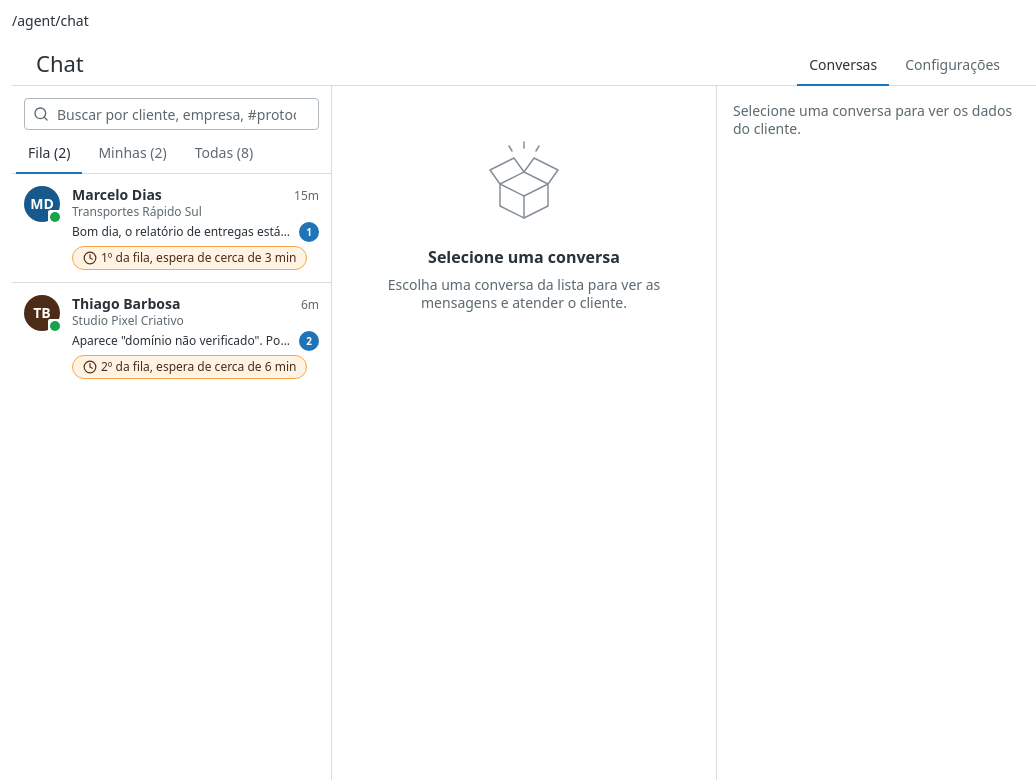
Test: lista de conversas › busca no servidor: sem resultado mostra o vazio; limpar volta
Expected: the list named "Conversas: Fila" is shown, 12,174 -> 331,391
Type "zzzz" into the search field named "Buscar conversas" at (184,114), box 49,99 -> 318,129
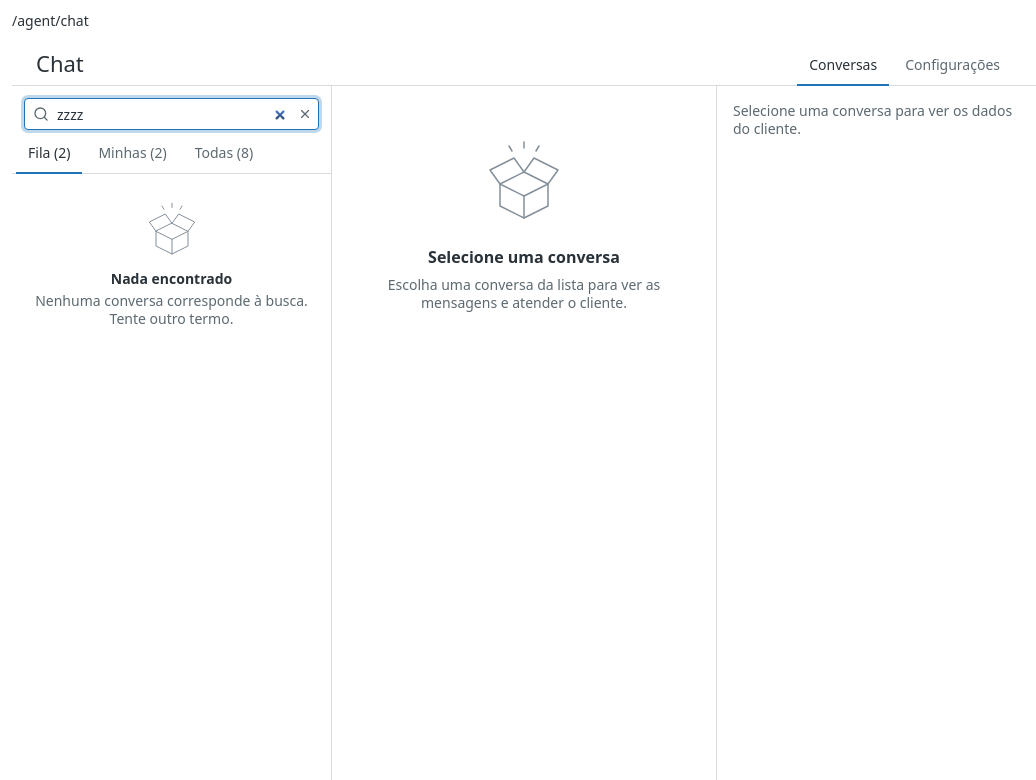
Expected: the heading "Nada encontrado" is shown, 111,270 -> 232,288
Click the button named "Limpar busca" at (305,114), box 296,105 -> 314,123
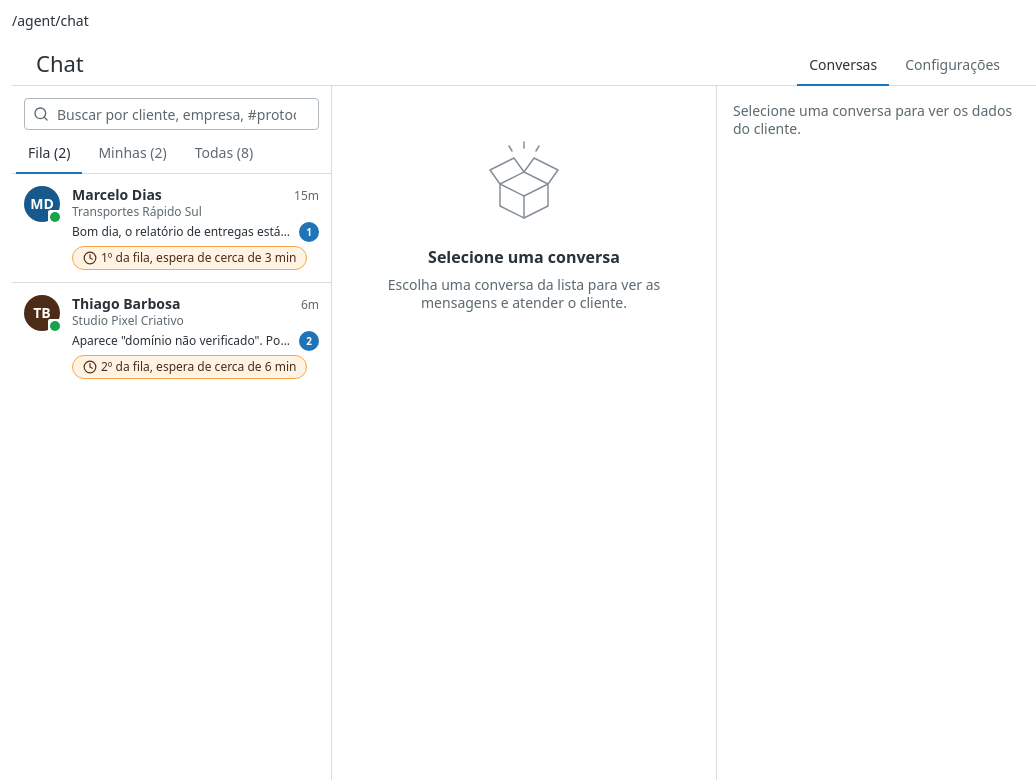
Expected: the list named "Conversas: Fila" is shown, 12,174 -> 331,391
